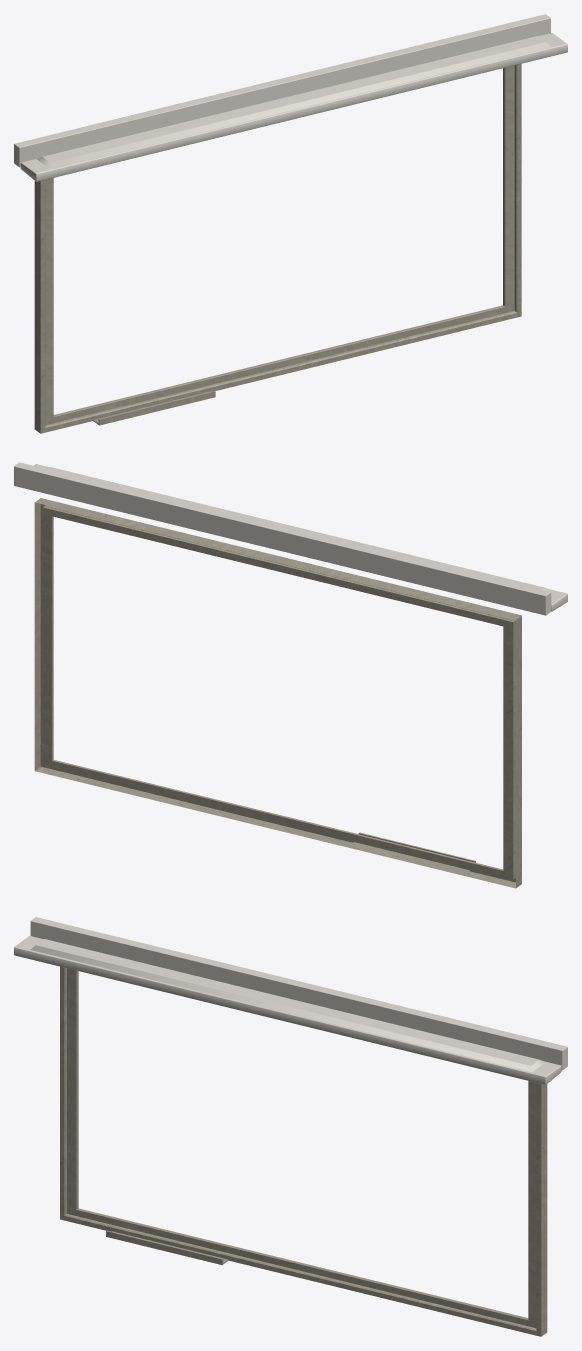
File: teaching-board.glb
3 views of the same model, one above another, from view 1: azimuth 30°, elevation 25°; view 2: azimuth 150°, elevation 25°; view 3: azimuth 330°, elevation 25° (orthographic).
Parts seen in each view (by area): view 1: boardFrame__export, blackBoardLamp__export, blackBoard_upPart__export; view 2: boardFrame__export, blackBoard_upPart__export, blackBoardLamp__export; view 3: boardFrame__export, blackBoardLamp__export, blackBoard_upPart__export.
Boxes of the visible parts, x1,y1,x2,y2 form: boardFrame__export: [34, 63, 521, 433]; blackBoardLamp__export: [20, 33, 567, 181]; blackBoard_upPart__export: [14, 14, 550, 167]; boardFrame__export: [34, 498, 521, 888]; blackBoard_upPart__export: [14, 462, 551, 615]; blackBoardLamp__export: [34, 464, 567, 611]; boardFrame__export: [60, 966, 547, 1336]; blackBoardLamp__export: [14, 936, 561, 1084]; blackBoard_upPart__export: [30, 917, 567, 1070].
Bounding box in the file's own units: 2.6 × 1.38 × 0.2284.
Materials: 3 (1 with a texture image).
